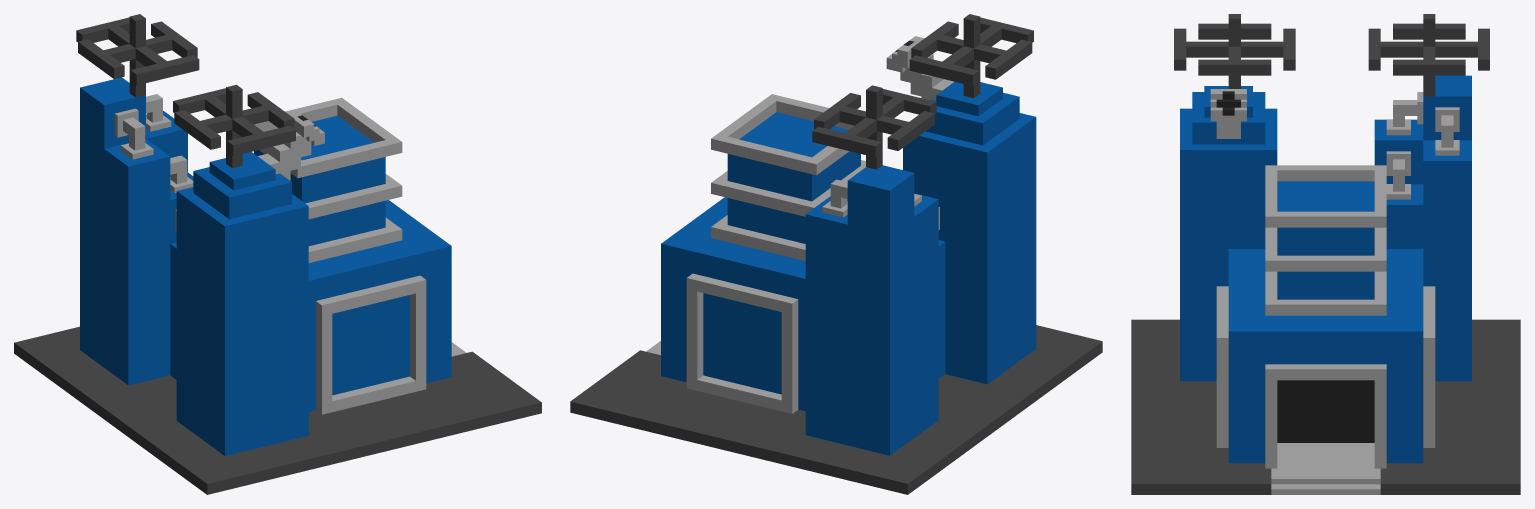
The model's file is Blue-7.obj.
3 renders of one model, left to right at view 1: azimuth 30°, elevation 25°; view 2: azimuth 150°, elevation 25°; view 3: azimuth 270°, elevation 25°, orthographic.
Visible parts, largest first — view 1: Blue-7; view 2: Blue-7; view 3: Blue-7.
Boxes of the visible parts, bbox=[...] form: Blue-7: bbox=[14, 14, 541, 494]; Blue-7: bbox=[570, 14, 1102, 494]; Blue-7: bbox=[1131, 14, 1520, 494].
Bounding box in the file's own units: 64 × 64 × 64.
1 material, 1 textured.
